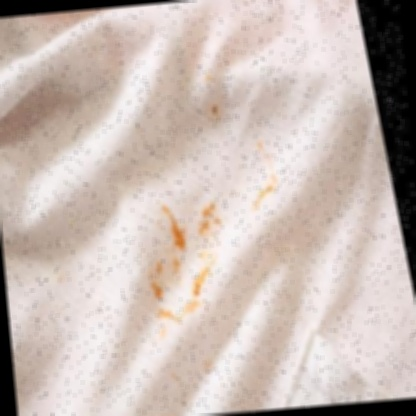kimchi: (118, 178, 240, 335), (235, 131, 293, 213), (191, 64, 219, 90), (199, 99, 223, 124), (201, 360, 219, 378), (170, 373, 182, 386)
